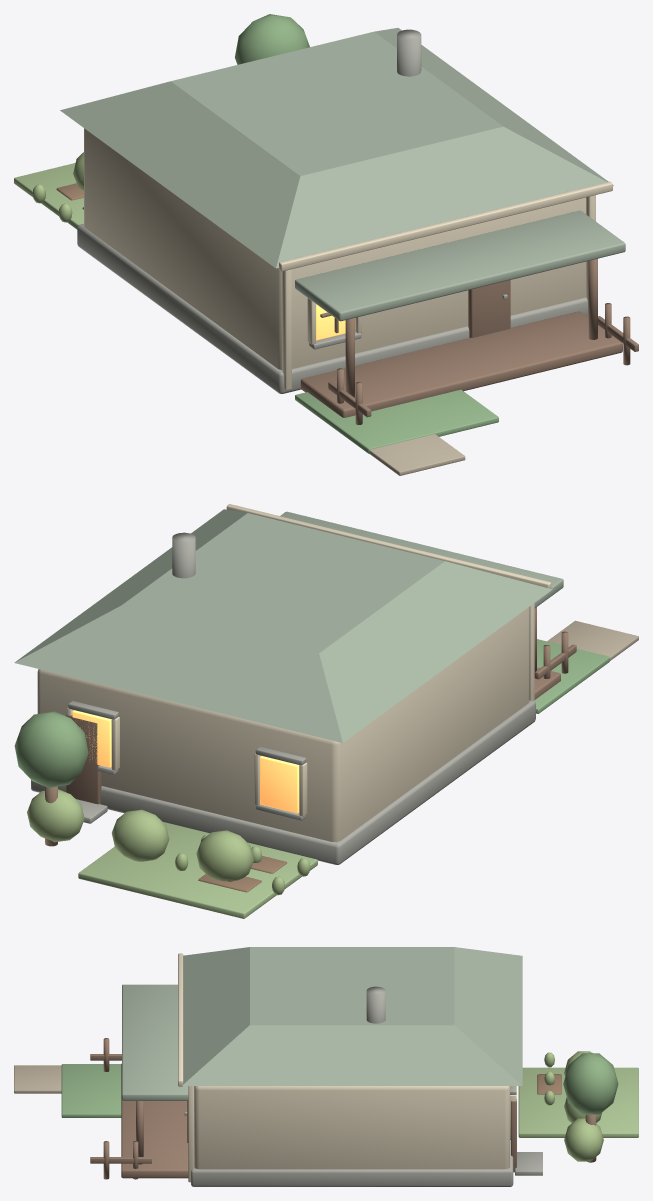
The model's file is veranda_bungalow_v1.8adf5797cf73.glb.
3 views of the same model, one above another, from view 1: azimuth 30°, elevation 25°; view 2: azimuth 150°, elevation 25°; view 3: azimuth 270°, elevation 25° (orthographic). The views are drawn at different scales.
Parts seen in each view (by area): view 1: MainRoof, MainBody, VerandaCanopy, VerandaSlab, StonePlinth, FrontGreenVerge, FrontFascia, YardTreeCrown, Driveway, PublicDoor, RearYardPatch, CornerQuoin.001 (+4 smaller); view 2: MainRoof, MainBody, StonePlinth, RearYardPatch, YardTreeCrown, Hedge2, Hedge1, Hedge3, VerandaCanopy, FrontGreenVerge, RearWindow1, FrontFascia (+5 smaller); view 3: MainRoof, MainBody, VerandaCanopy, StonePlinth, RearYardPatch, VerandaSlab, FrontGreenVerge, YardTreeCrown, Driveway, Hedge3, FrontFascia, Chimney (+6 smaller).
Boxes of the visible parts, x1=… form: MainRoof: x1=60, y1=28, x2=613, y2=268; MainBody: x1=84, y1=128, x2=586, y2=370; VerandaCanopy: x1=295, y1=210, x2=625, y2=321; VerandaSlab: x1=300, y1=311, x2=622, y2=417; StonePlinth: x1=77, y1=224, x2=588, y2=393; FrontGreenVerge: x1=295, y1=389, x2=498, y2=453; FrontFascia: x1=279, y1=181, x2=612, y2=271; YardTreeCrown: x1=235, y1=14, x2=309, y2=64; Driveway: x1=369, y1=434, x2=465, y2=475; PublicDoor: x1=468, y1=280, x2=510, y2=337; RearYardPatch: x1=14, y1=163, x2=83, y2=229; CornerQuoin.001: x1=282, y1=269, x2=291, y2=390; MainRoof: x1=14, y1=509, x2=552, y2=742; MainBody: x1=37, y1=607, x2=529, y2=842; StonePlinth: x1=31, y1=700, x2=535, y2=864; RearYardPatch: x1=78, y1=822, x2=317, y2=918; YardTreeCrown: x1=14, y1=711, x2=88, y2=787; Hedge2: x1=111, y1=809, x2=169, y2=861; Hedge1: x1=196, y1=830, x2=253, y2=881; Hedge3: x1=27, y1=789, x2=84, y2=842; VerandaCanopy: x1=280, y1=511, x2=563, y2=608; FrontGreenVerge: x1=534, y1=639, x2=609, y2=713; RearWindow1: x1=260, y1=756, x2=299, y2=813; FrontFascia: x1=226, y1=504, x2=551, y2=588; MainRoof: x1=181, y1=947, x2=522, y2=1085; MainBody: x1=194, y1=1086, x2=509, y2=1169; VerandaCanopy: x1=122, y1=984, x2=188, y2=1100; StonePlinth: x1=191, y1=1140, x2=513, y2=1186; RearYardPatch: x1=518, y1=1067, x2=638, y2=1137; VerandaSlab: x1=121, y1=1063, x2=188, y2=1178; FrontGreenVerge: x1=61, y1=1064, x2=121, y2=1117; YardTreeCrown: x1=563, y1=1053, x2=618, y2=1114; Driveway: x1=14, y1=1065, x2=61, y2=1093; Hedge3: x1=564, y1=1118, x2=603, y2=1161; FrontFascia: x1=178, y1=953, x2=183, y2=1086; Chimney: x1=366, y1=986, x2=385, y2=1023.
Size of the model in its own units: 8.97 by 5.45 by 18.19.
